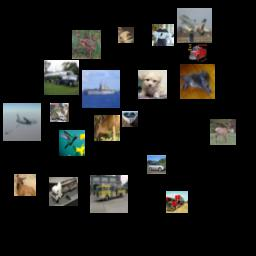airplane: (3, 103, 41, 141), (177, 8, 212, 43)
automobile: (147, 155, 166, 174)
bird: (59, 130, 85, 156)
cat: (180, 64, 215, 99), (152, 24, 174, 46), (50, 103, 69, 122)
deer: (94, 115, 120, 141), (210, 119, 236, 145), (14, 174, 36, 196)
dog: (138, 70, 167, 99), (118, 27, 134, 43)
frog: (72, 30, 101, 59)
ship: (82, 70, 120, 108), (122, 111, 138, 127)
truck: (90, 175, 128, 213), (44, 60, 79, 95), (49, 177, 78, 206), (166, 191, 188, 213), (188, 44, 207, 63)
